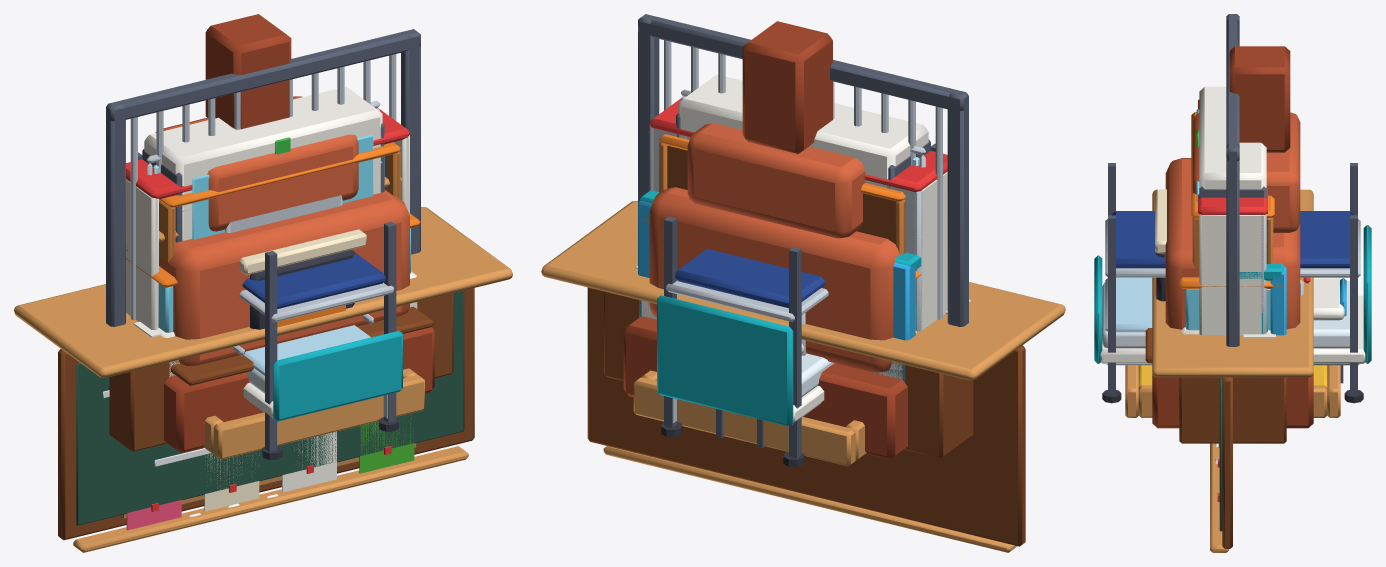
The model's file is facility-props.glb.
3 views of the same model, side by side, from view 1: azimuth 30°, elevation 25°; view 2: azimuth 150°, elevation 25°; view 3: azimuth 270°, elevation 25° (orthographic). The views are drawn at different scales.
Parts seen in each view (by area): view 1: fp_oven, fp_blackboard, fp_meetingtable, fp_cellbars, fp_medcabinet, fp_hospitalbed, fp_cellbed, fp_shelf, fp_hiringboard, fp_sandbox, fp_breadshelf, fp_trays (+2 smaller); view 2: fp_oven, fp_blackboard, fp_meetingtable, fp_cellbars, fp_hospitalbed, fp_cellbed, fp_medcabinet, fp_shelf, fp_sandbox, fp_breadshelf, fp_chiller, fp_noticeboard (+1 smaller); view 3: fp_oven, fp_meetingtable, fp_cellbed, fp_hospitalbed, fp_shelf, fp_medcabinet, fp_cellbars, fp_blackboard, fp_sandbox, fp_chiller, fp_breadshelf, fp_cakecase (+1 smaller).
Boxes of the visible parts, x1=… form: fp_oven: x1=155, y1=14, x2=434, y2=453; fp_blackboard: x1=58, y1=288, x2=474, y2=552; fp_meetingtable: x1=14, y1=207, x2=512, y2=451; fp_cellbars: x1=106, y1=29, x2=420, y2=326; fp_medcabinet: x1=144, y1=86, x2=382, y2=240; fp_hospitalbed: x1=233, y1=314, x2=402, y2=460; fp_cellbed: x1=138, y1=152, x2=396, y2=451; fp_shelf: x1=126, y1=108, x2=409, y2=330; fp_hiringboard: x1=122, y1=413, x2=416, y2=530; fp_sandbox: x1=203, y1=368, x2=424, y2=459; fp_breadshelf: x1=159, y1=142, x2=400, y2=271; fp_trays: x1=225, y1=195, x2=342, y2=232; fp_oven: x1=623, y1=21, x2=907, y2=459; fp_blackboard: x1=587, y1=287, x2=1025, y2=552; fp_meetingtable: x1=541, y1=201, x2=1065, y2=458; fp_cellbars: x1=638, y1=14, x2=968, y2=326; fp_hospitalbed: x1=657, y1=295, x2=834, y2=466; fp_cellbed: x1=664, y1=143, x2=935, y2=458; fp_medcabinet: x1=678, y1=74, x2=928, y2=187; fp_shelf: x1=649, y1=97, x2=947, y2=331; fp_sandbox: x1=633, y1=370, x2=866, y2=466; fp_breadshelf: x1=659, y1=134, x2=905, y2=254; fp_chiller: x1=638, y1=190, x2=921, y2=382; fp_noticeboard: x1=684, y1=426, x2=879, y2=488; fp_oven: x1=1145, y1=46, x2=1313, y2=428; fp_meetingtable: x1=1152, y1=189, x2=1313, y2=443; fp_cellbed: x1=1105, y1=163, x2=1360, y2=395; fp_hospitalbed: x1=1094, y1=225, x2=1371, y2=403; fp_shelf: x1=1198, y1=99, x2=1267, y2=335; fp_medcabinet: x1=1196, y1=86, x2=1266, y2=201; fp_cellbars: x1=1226, y1=14, x2=1239, y2=346; fp_blackboard: x1=1210, y1=377, x2=1232, y2=552; fp_sandbox: x1=1125, y1=365, x2=1340, y2=417; fp_chiller: x1=1182, y1=263, x2=1286, y2=335; fp_breadshelf: x1=1191, y1=112, x2=1274, y2=276; fp_cakecase: x1=1179, y1=277, x2=1282, y2=330.
Size of the model in its own units: 3.2 by 3.38 by 2.06.
